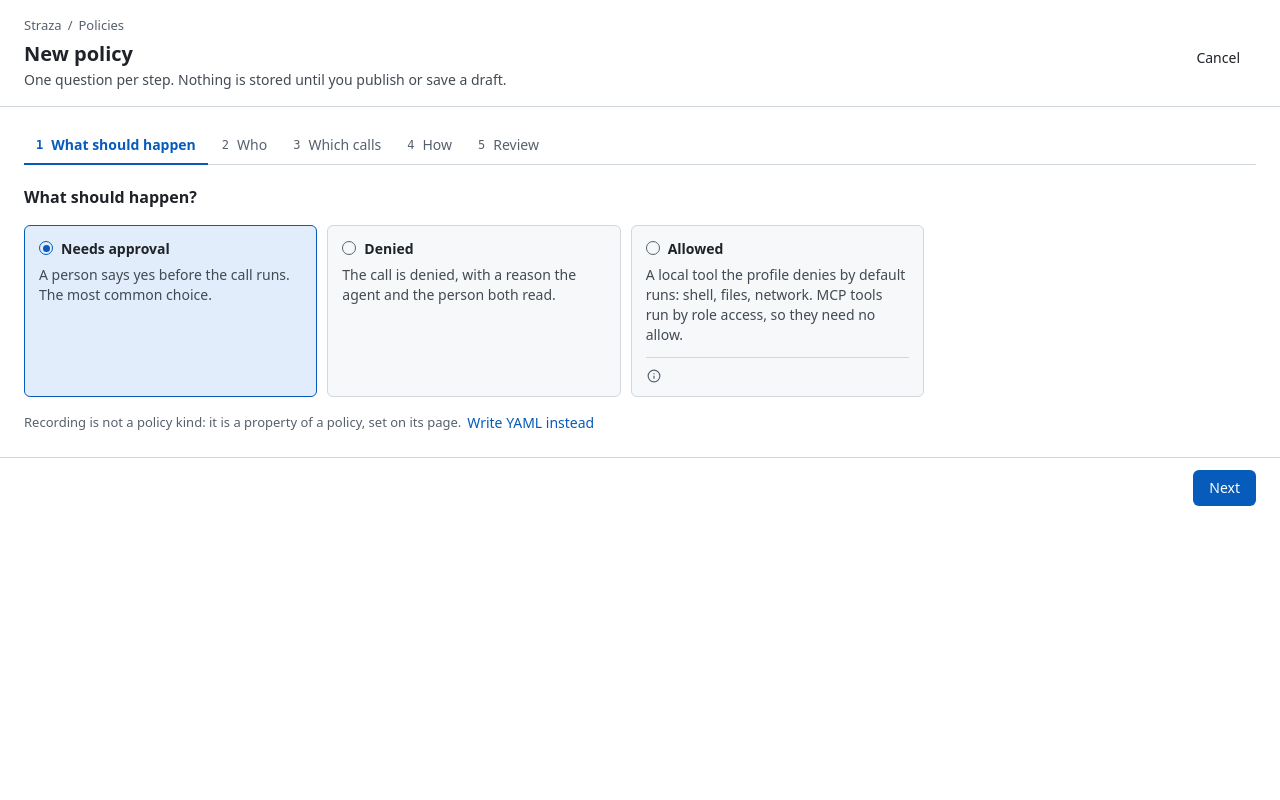
Test: the New policy wizard › narrows the servers to the role's reach and says what each tool does today
This screenshot has width=1280, height=800.
Click the button "Next".
click(1225, 488)  # box x1=1193 y1=470 x2=1256 y2=506
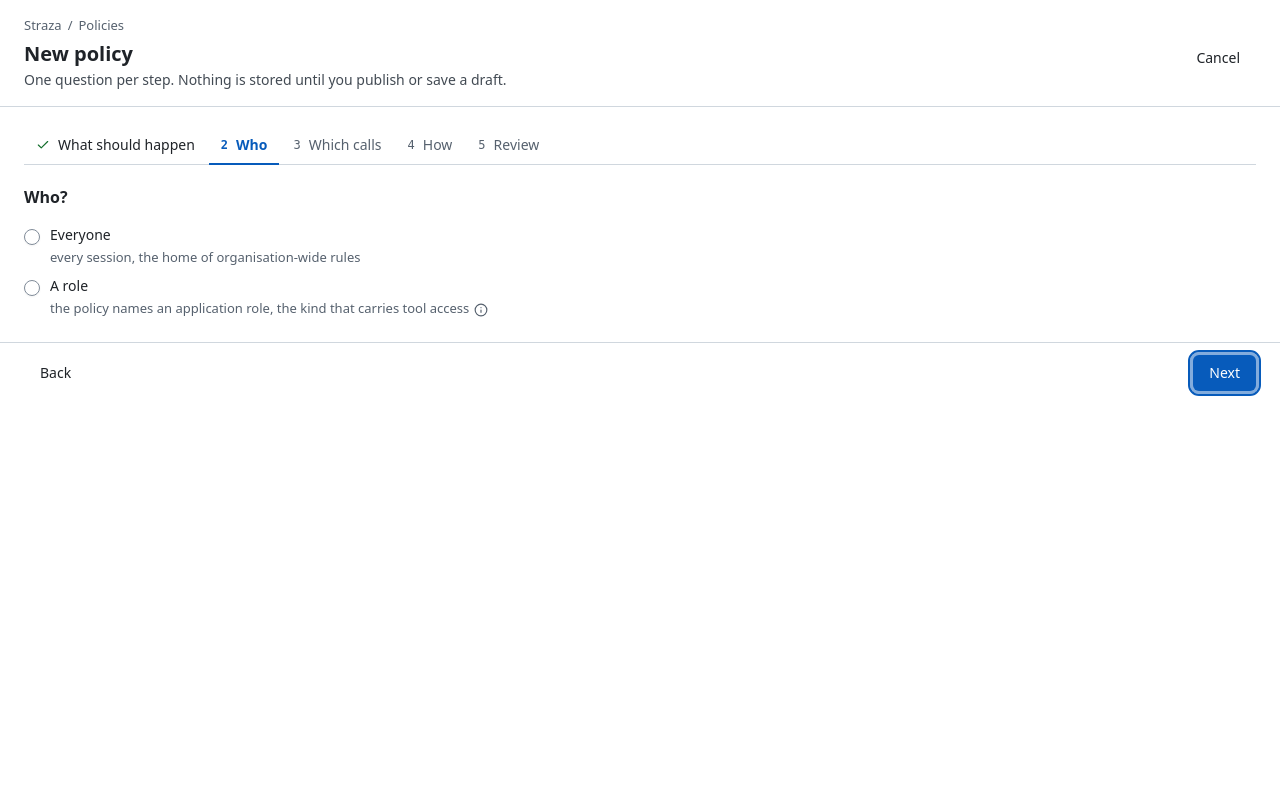
Click the radio button named "A role".
click(32, 288)  # box x1=24 y1=280 x2=40 y2=296
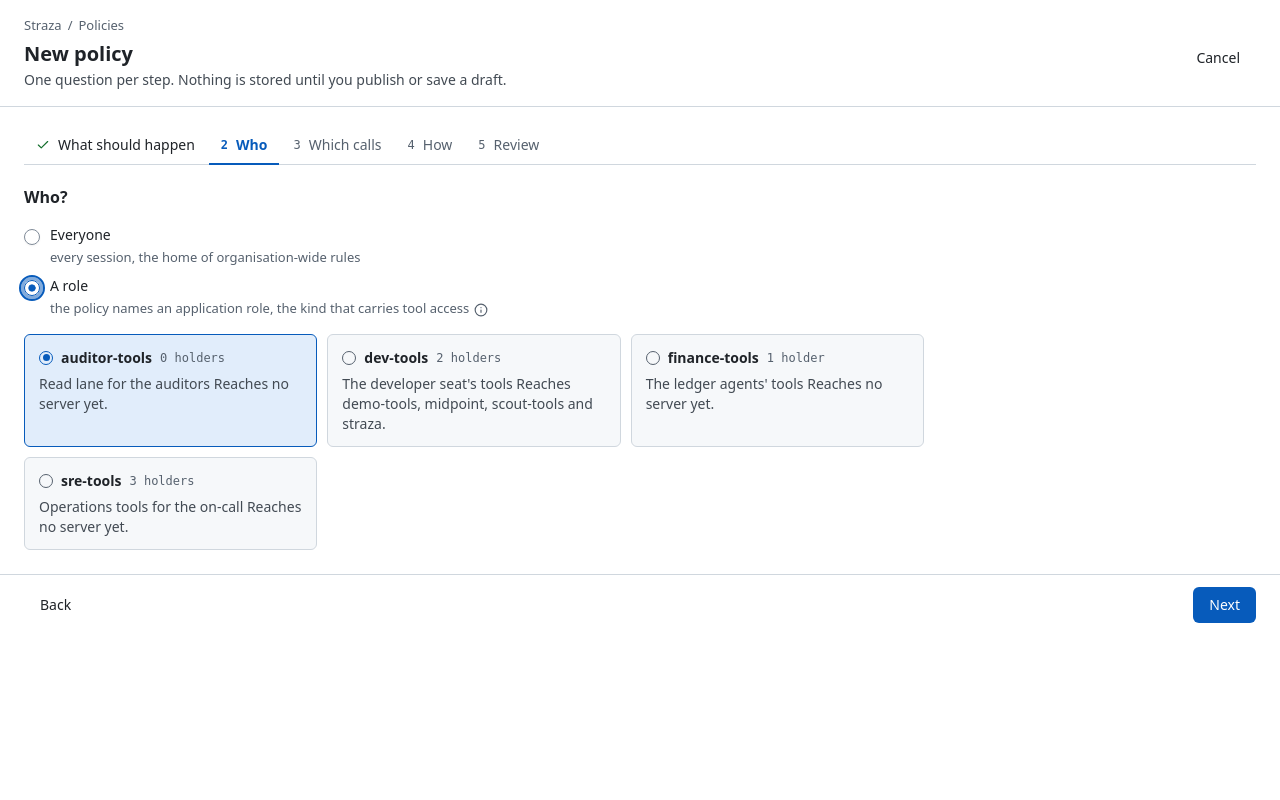
Click the radio button labelled "dev-tools".
click(474, 391)  # box x1=328 y1=335 x2=620 y2=446
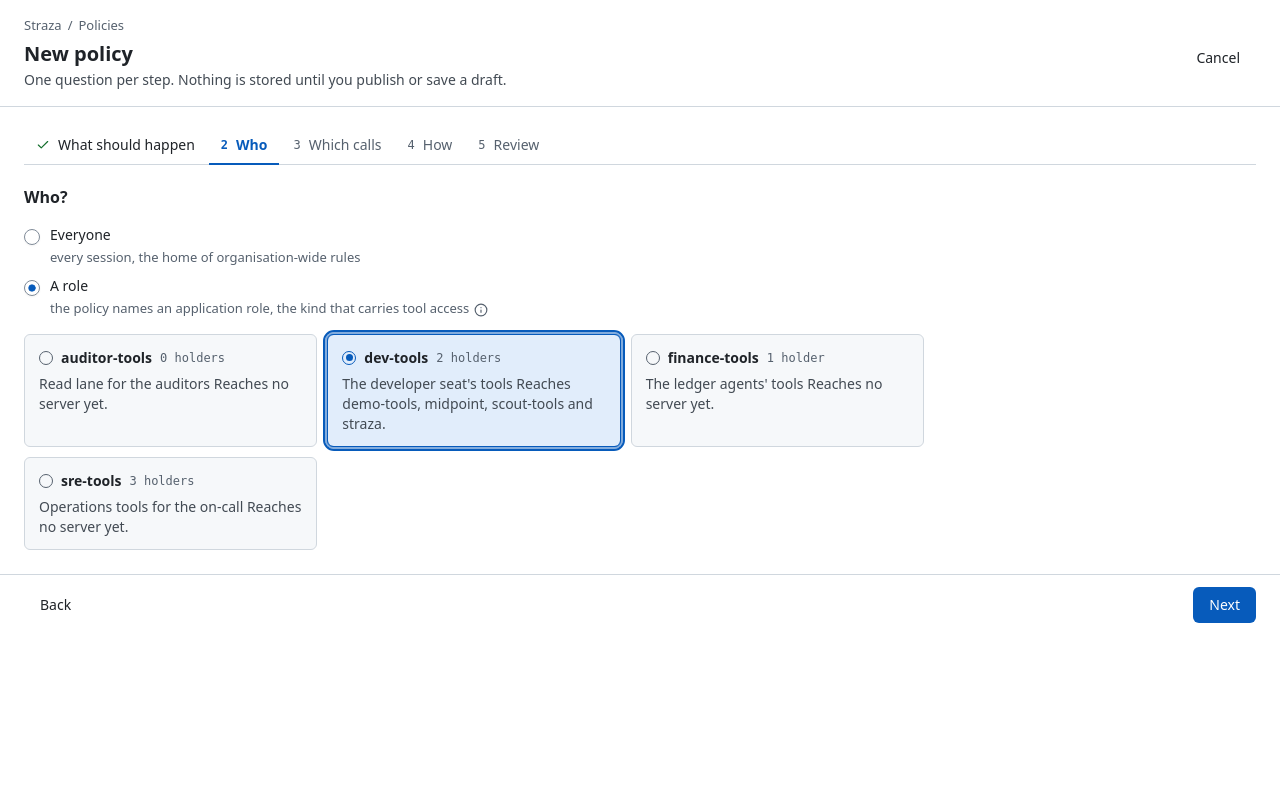
Click the button "Next".
click(1225, 605)  # box x1=1193 y1=587 x2=1256 y2=623
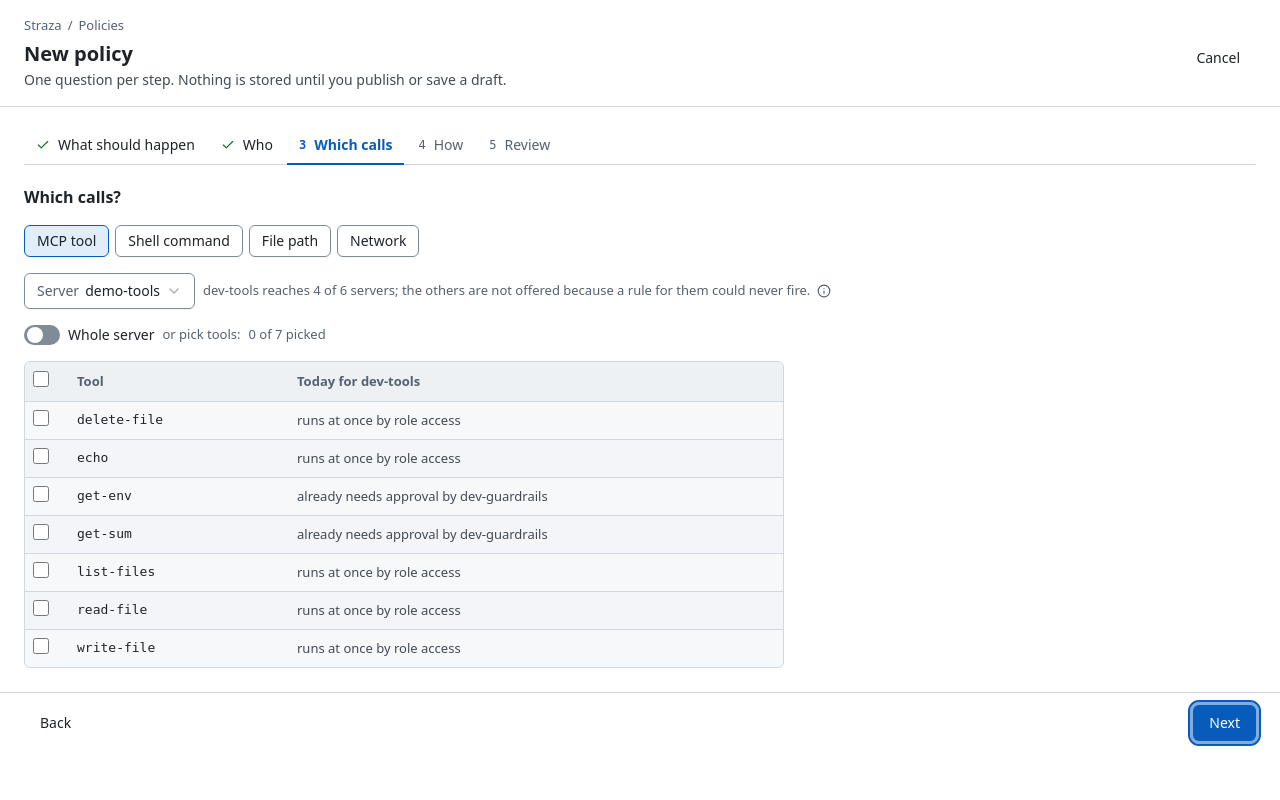
expect the checkbox named "write-file" is shown: met, box x1=33 y1=638 x2=49 y2=654
expect the dropdown labelled "Server" shows "demo-tools": met, box x1=24 y1=272 x2=195 y2=308
expect the cell "runs at once by role access" next to "delete-file" is shown: met, box x1=297 y1=411 x2=461 y2=429
